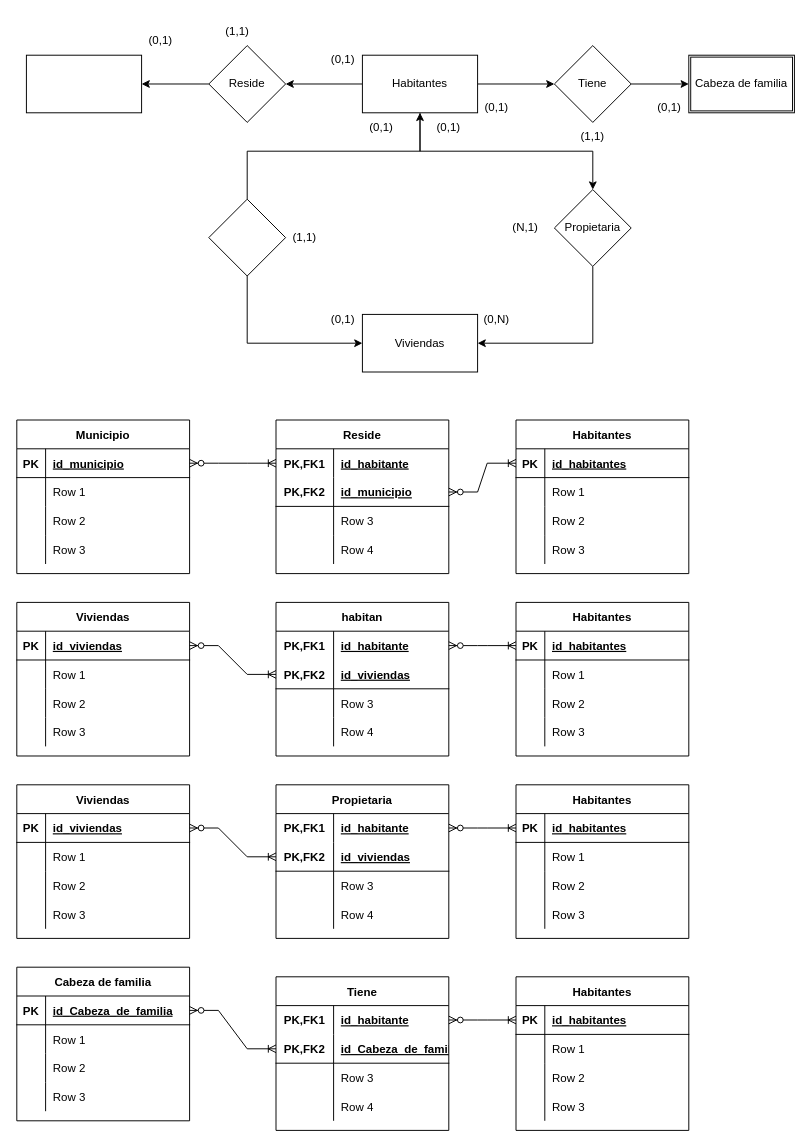
Some shapes in this 811 by 1147 pixel diagram are drawn without their labels. The shapes that lost their labels are listed below. From the top down, each one's centre as x and y in pixels, then its label:
the point at 83,83: Municipios
the point at 247,237: Habitar
